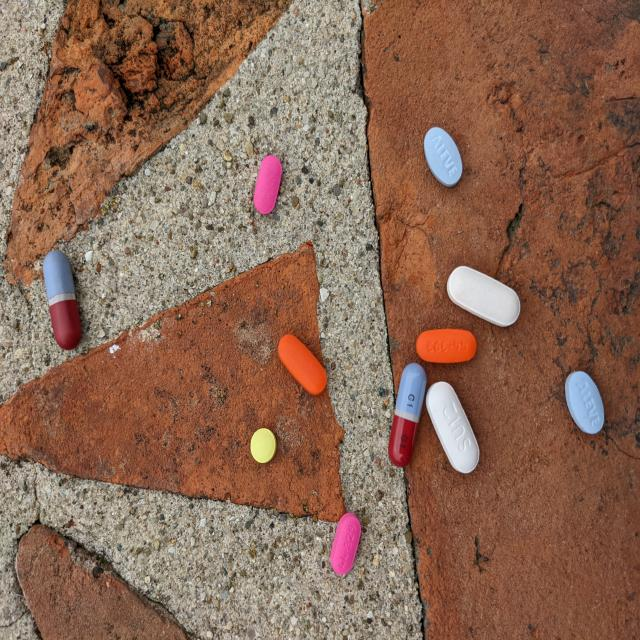non-organic waste: (425, 379, 480, 475), (446, 264, 521, 329), (387, 361, 427, 469), (42, 247, 83, 351), (277, 332, 328, 398), (564, 370, 605, 435), (422, 125, 463, 189), (415, 327, 477, 364), (329, 512, 362, 576), (253, 153, 283, 216), (249, 426, 278, 465)
